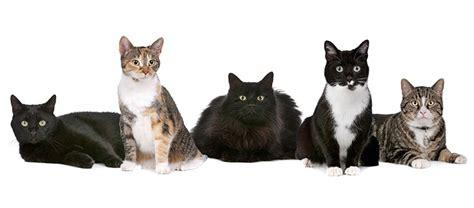cat: (117, 35, 206, 173), (295, 40, 380, 176), (192, 71, 300, 162), (371, 77, 467, 167), (10, 94, 123, 170)
